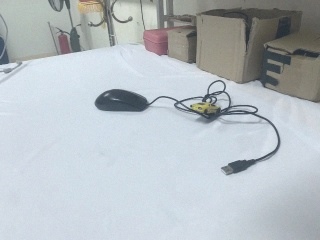box: (195, 5, 299, 85), (259, 28, 320, 103), (167, 24, 197, 64)
mouse: (94, 88, 149, 113)
toy_car: (186, 98, 224, 118)
